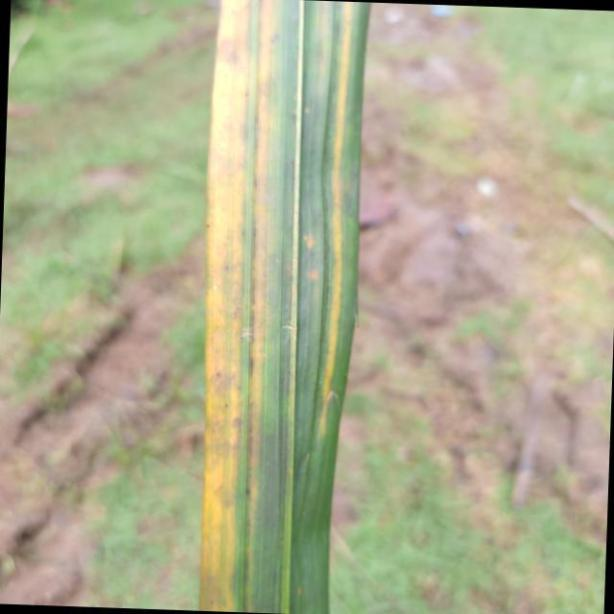Megnesium: (200, 0, 368, 614)
